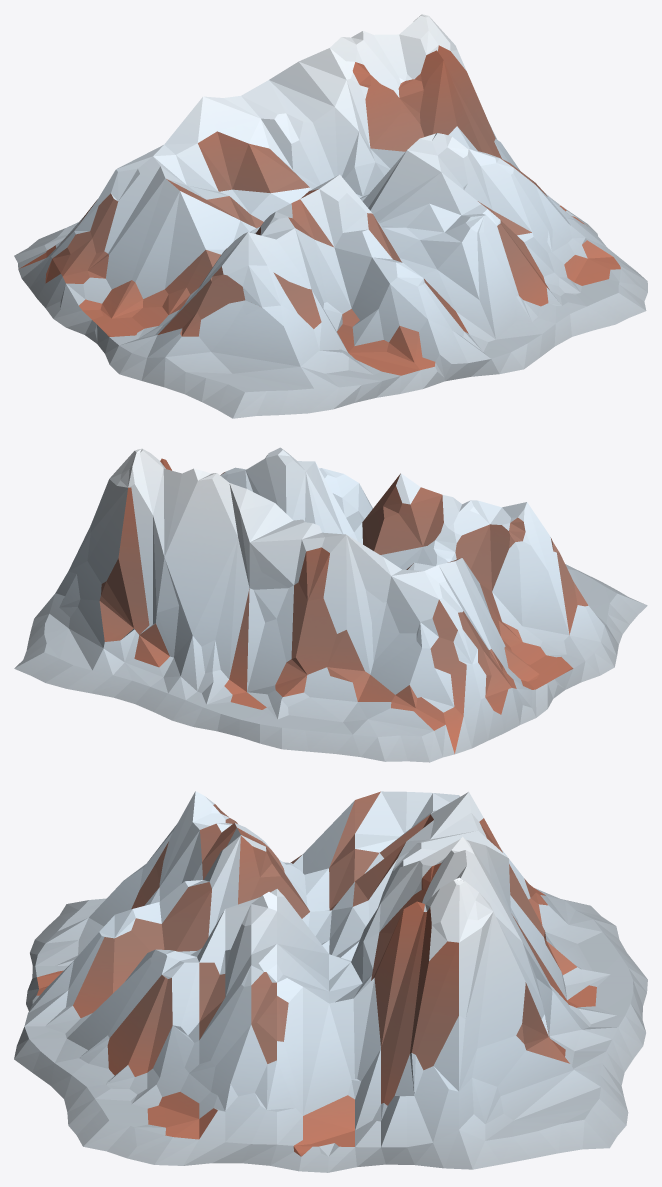
The model's file is Snowy_Mountains_001.FBX.
3 renders of one model, top to bottom at view 1: azimuth 30°, elevation 25°; view 2: azimuth 150°, elevation 25°; view 3: azimuth 270°, elevation 25°, orthographic. The views are drawn at different scales.
Parts seen in each view (by area): view 1: Snowy_Mountains_001; view 2: Snowy_Mountains_001; view 3: Snowy_Mountains_001.
Boxes of the visible parts, x1,y1,x2,y2 form: Snowy_Mountains_001: (14,14,647,418); Snowy_Mountains_001: (14,447,647,762); Snowy_Mountains_001: (14,791,647,1172).
Bounding box in the file's own units: 2425 × 909 × 2228.
1 material, 1 textured.
